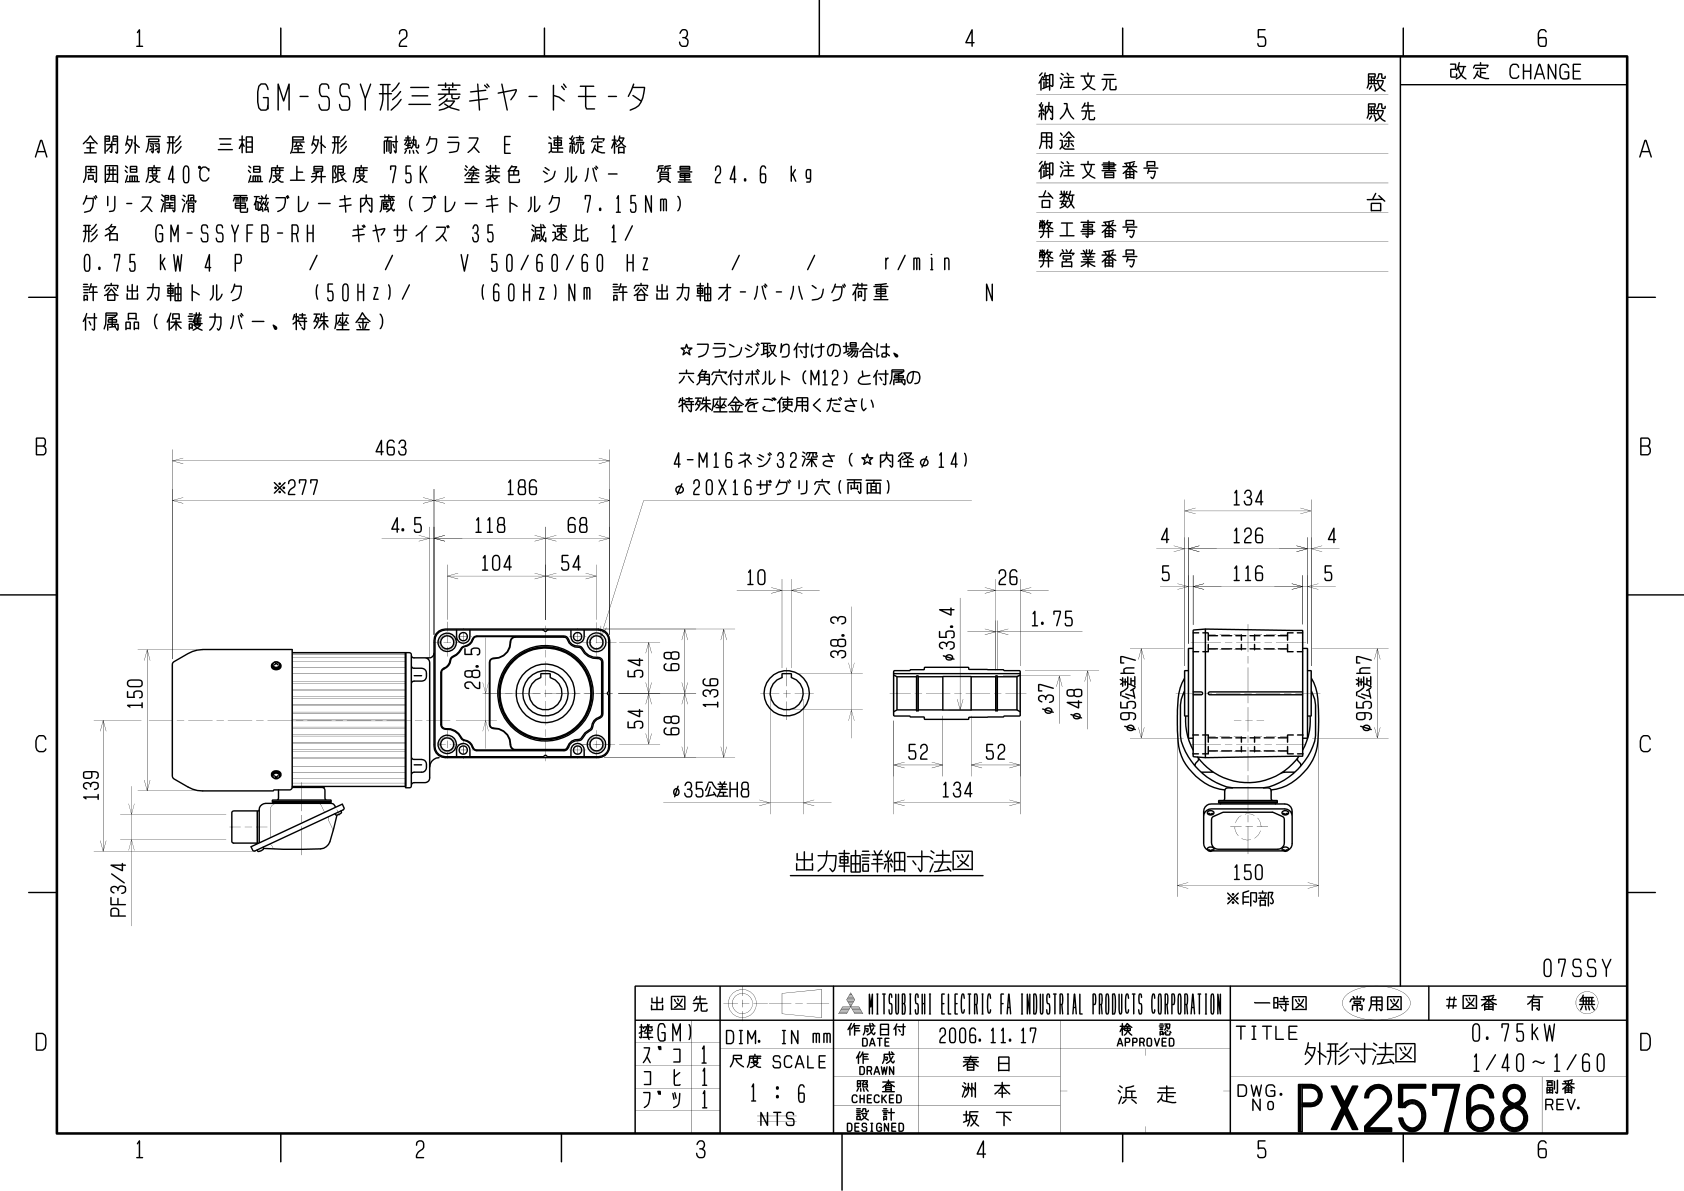GM_SSY_屋外_三相: (15, 15, 1684, 1186)
